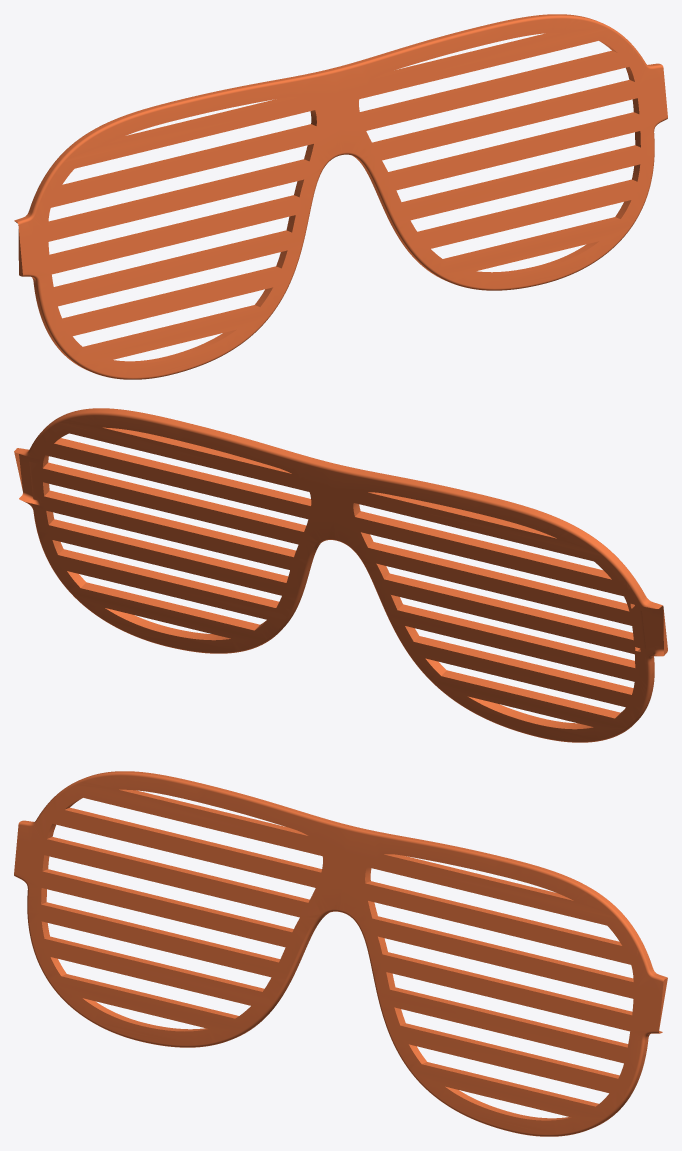
Rendered from glasses_C.fbx.
3 views of the same model, one above another, from view 1: azimuth 30°, elevation 25°; view 2: azimuth 150°, elevation 25°; view 3: azimuth 330°, elevation 25° (orthographic).
Parts seen in each view (by area): view 1: Default.004; view 2: Default.004; view 3: Default.004.
Boxes of the visible parts, x1,y1,x2,y2 form: Default.004: (14, 14, 667, 379); Default.004: (14, 408, 667, 742); Default.004: (14, 771, 667, 1136).
Size of the model in its own units: 118217 by 43499 by 9278.
